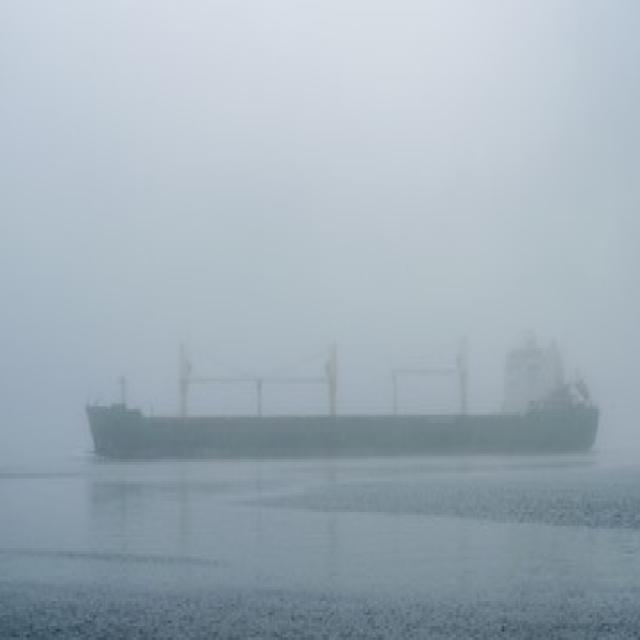cargoship: (78, 325, 600, 462)
